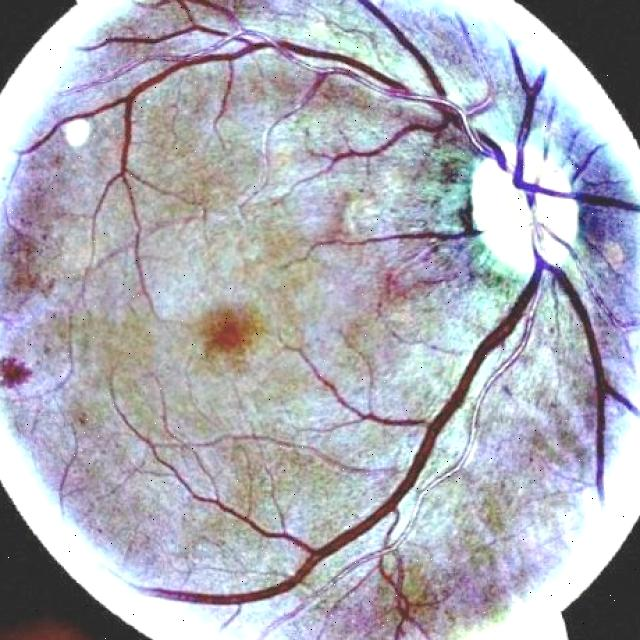Macula: (178, 290, 272, 388)
Nerves: (45, 0, 639, 625)
Optic Disk: (431, 127, 600, 319)
